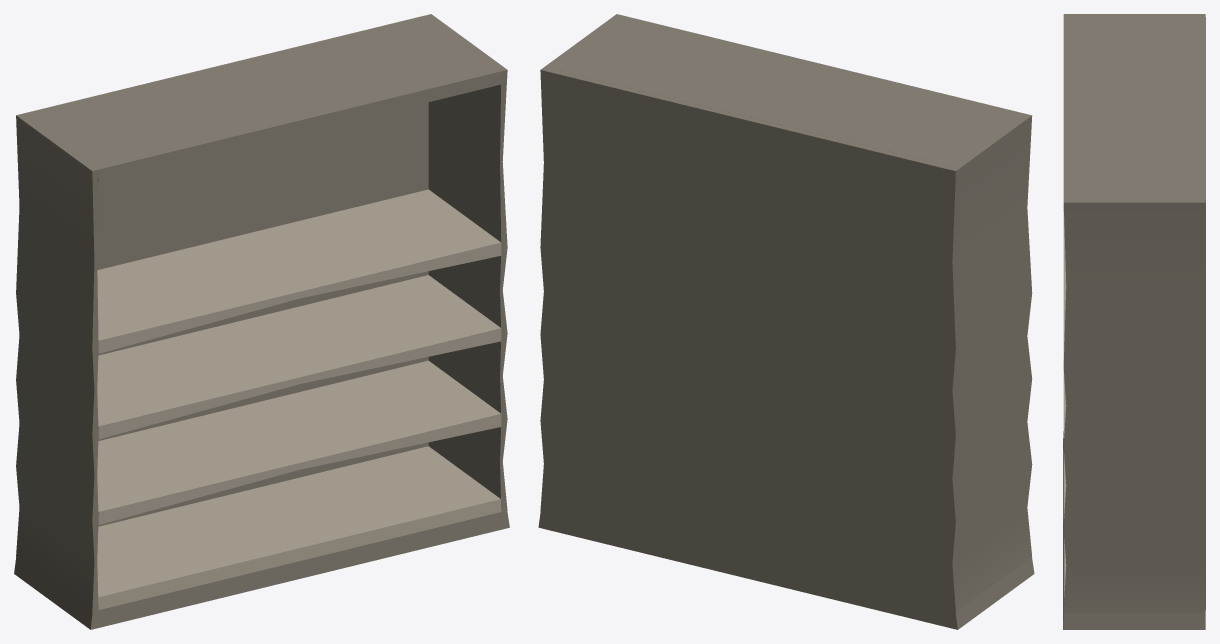
The model's file is BookshelfBasic.glb.
The picture shows the model from 3 angles, left to right: view 1: azimuth 30°, elevation 25°; view 2: azimuth 150°, elevation 25°; view 3: azimuth 270°, elevation 25°; orthographic projection. The views are drawn at different scales.
Visible parts, largest first — view 1: pCube20, pCube21, pCube19, pCube14, pCube15, pCube16, pCube17, pCube28, pCube32; view 2: pCube20, pCube21, pCube19, pCube32, pCube28; view 3: pCube28, pCube19, pCube32, pCube20, pCube21, pCube17.
Boxes of the visible parts, x1,y1,x2,y2 form: pCube20: (22, 15, 428, 526); pCube21: (16, 114, 98, 612); pCube19: (26, 18, 501, 182); pCube14: (97, 446, 501, 609); pCube15: (97, 360, 501, 524); pCube16: (97, 275, 501, 439); pCube17: (97, 189, 501, 353); pCube28: (425, 14, 507, 512); pCube32: (14, 511, 509, 629); pCube20: (546, 69, 952, 610); pCube21: (949, 114, 1032, 612); pCube19: (550, 15, 1025, 166); pCube32: (538, 511, 1034, 629); pCube28: (540, 14, 622, 512); pCube28: (1063, 199, 1205, 613); pCube19: (1063, 17, 1198, 211); pCube32: (1063, 431, 1205, 629); pCube20: (1199, 17, 1205, 609); pCube21: (1063, 14, 1205, 16); pCube17: (1063, 212, 1066, 370).
Bounding box in the file's own units: 66.63 × 69.57 × 21.11.
